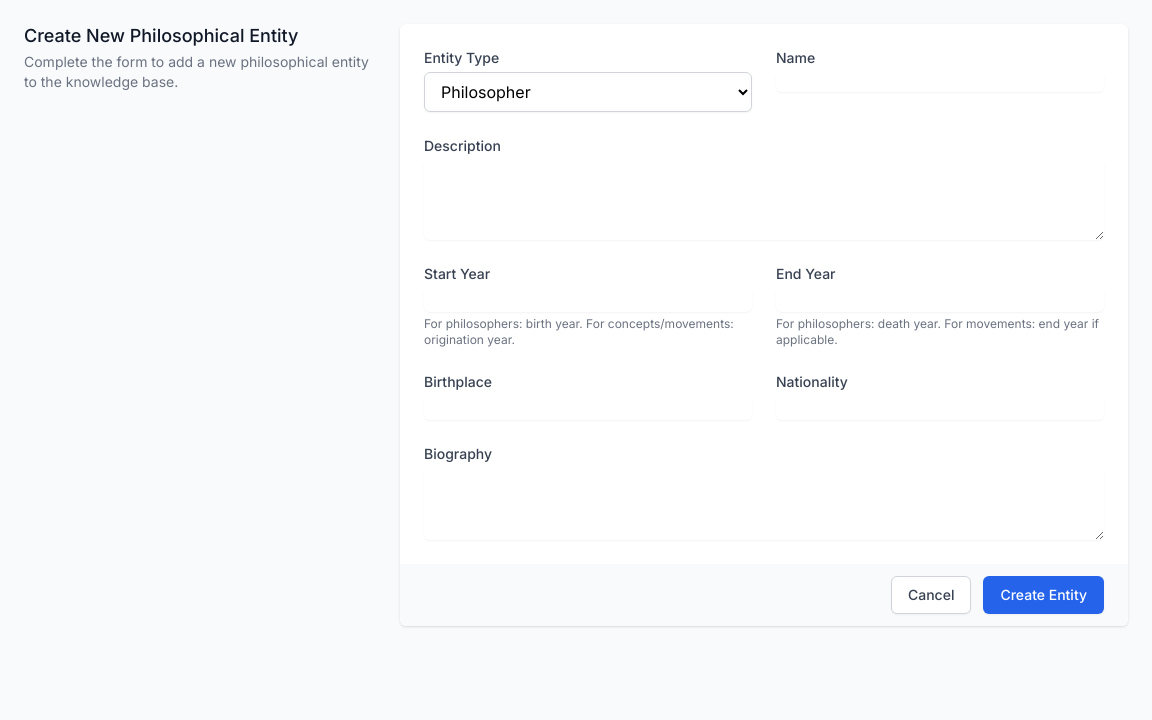
Scenario: EntityForm Component › shows different fields based on entity type selection
Expected: the text box labelled "Biography" is shown, [424,468,1104,540]
// Change to PhilosophicalConcept
Select "Philosophical Concept" in the dropdown labelled "Entity Type": (588, 92) [424,72,752,112]
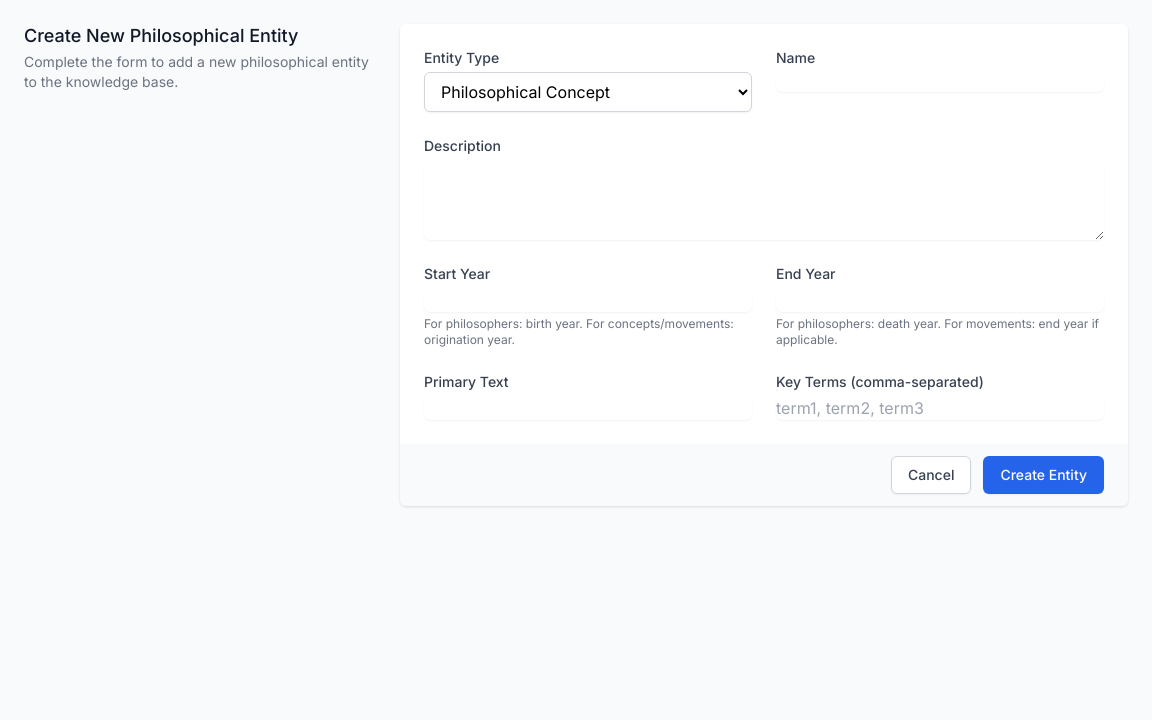
Expected: the field labelled "Key Terms (comma-separated)" is shown, [776,396,1104,420]
// Change to Problematic
Select "Philosophical Problematic" in the dropdown labelled "Entity Type": (588, 92) [424,72,752,112]
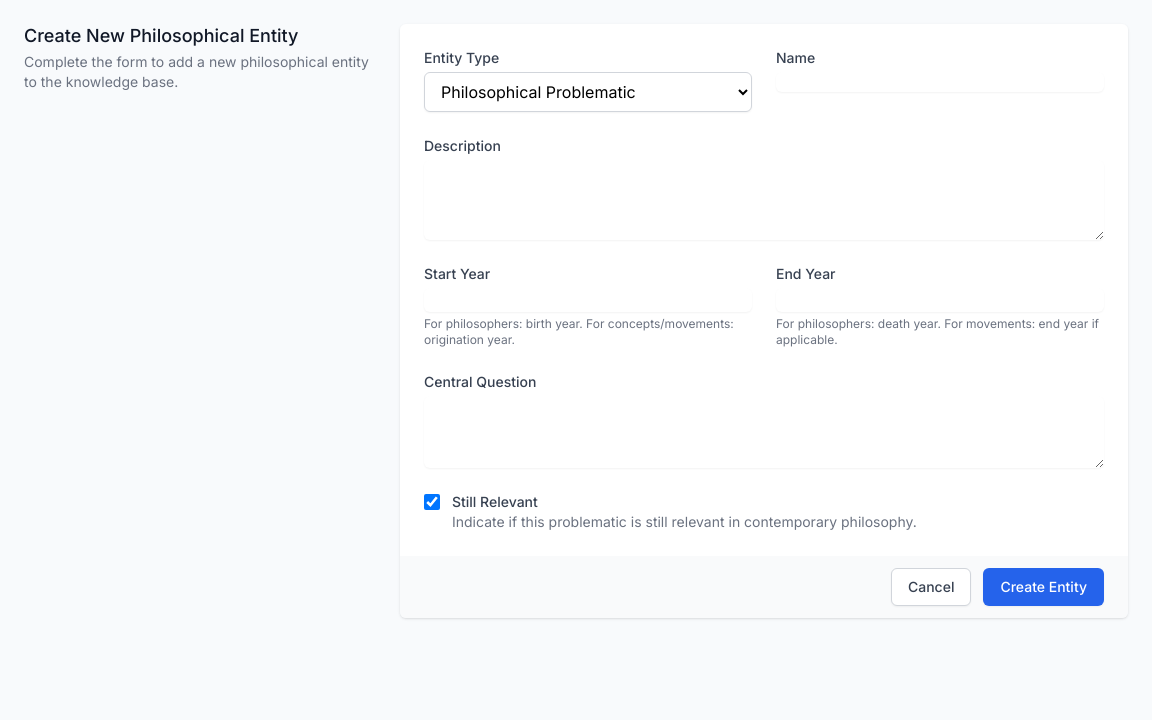
Expected: the text box labelled "Central Question" is shown, [424,396,1104,468]
Expected: the checkbox labelled "Still Relevant" is shown, [424,494,440,510]
